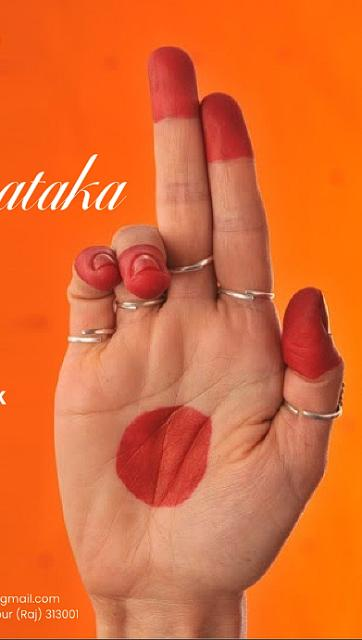ardhpataka: (38, 18, 348, 630)
